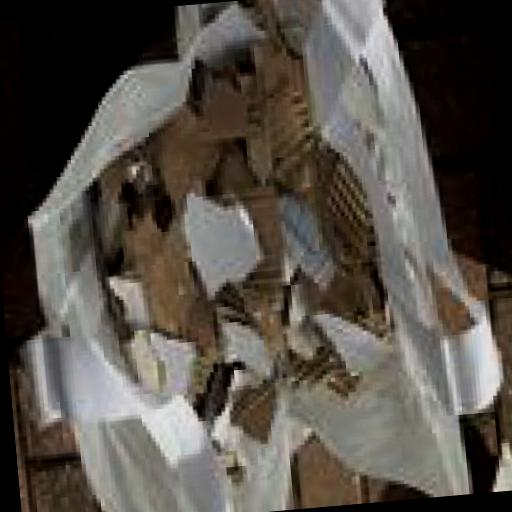cardboard: (128, 212, 224, 366), (86, 147, 180, 274), (182, 186, 271, 306), (212, 154, 290, 284), (297, 261, 391, 352), (246, 98, 328, 200), (275, 188, 351, 294), (156, 114, 239, 204), (204, 294, 286, 380), (209, 360, 267, 480), (238, 268, 302, 376), (284, 327, 370, 405), (246, 0, 306, 108), (219, 374, 289, 456), (195, 62, 265, 144), (324, 170, 380, 266), (199, 6, 268, 72), (192, 354, 240, 430), (433, 268, 480, 344), (162, 332, 212, 400), (126, 332, 168, 399), (110, 274, 150, 340), (315, 152, 346, 186)
